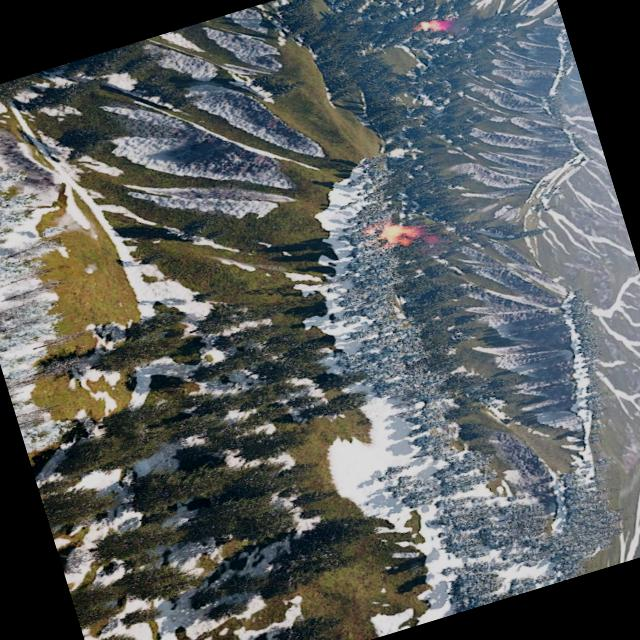fire: (378, 218, 418, 250), (417, 15, 448, 37)
smoke: (406, 220, 452, 258), (438, 12, 471, 38)
